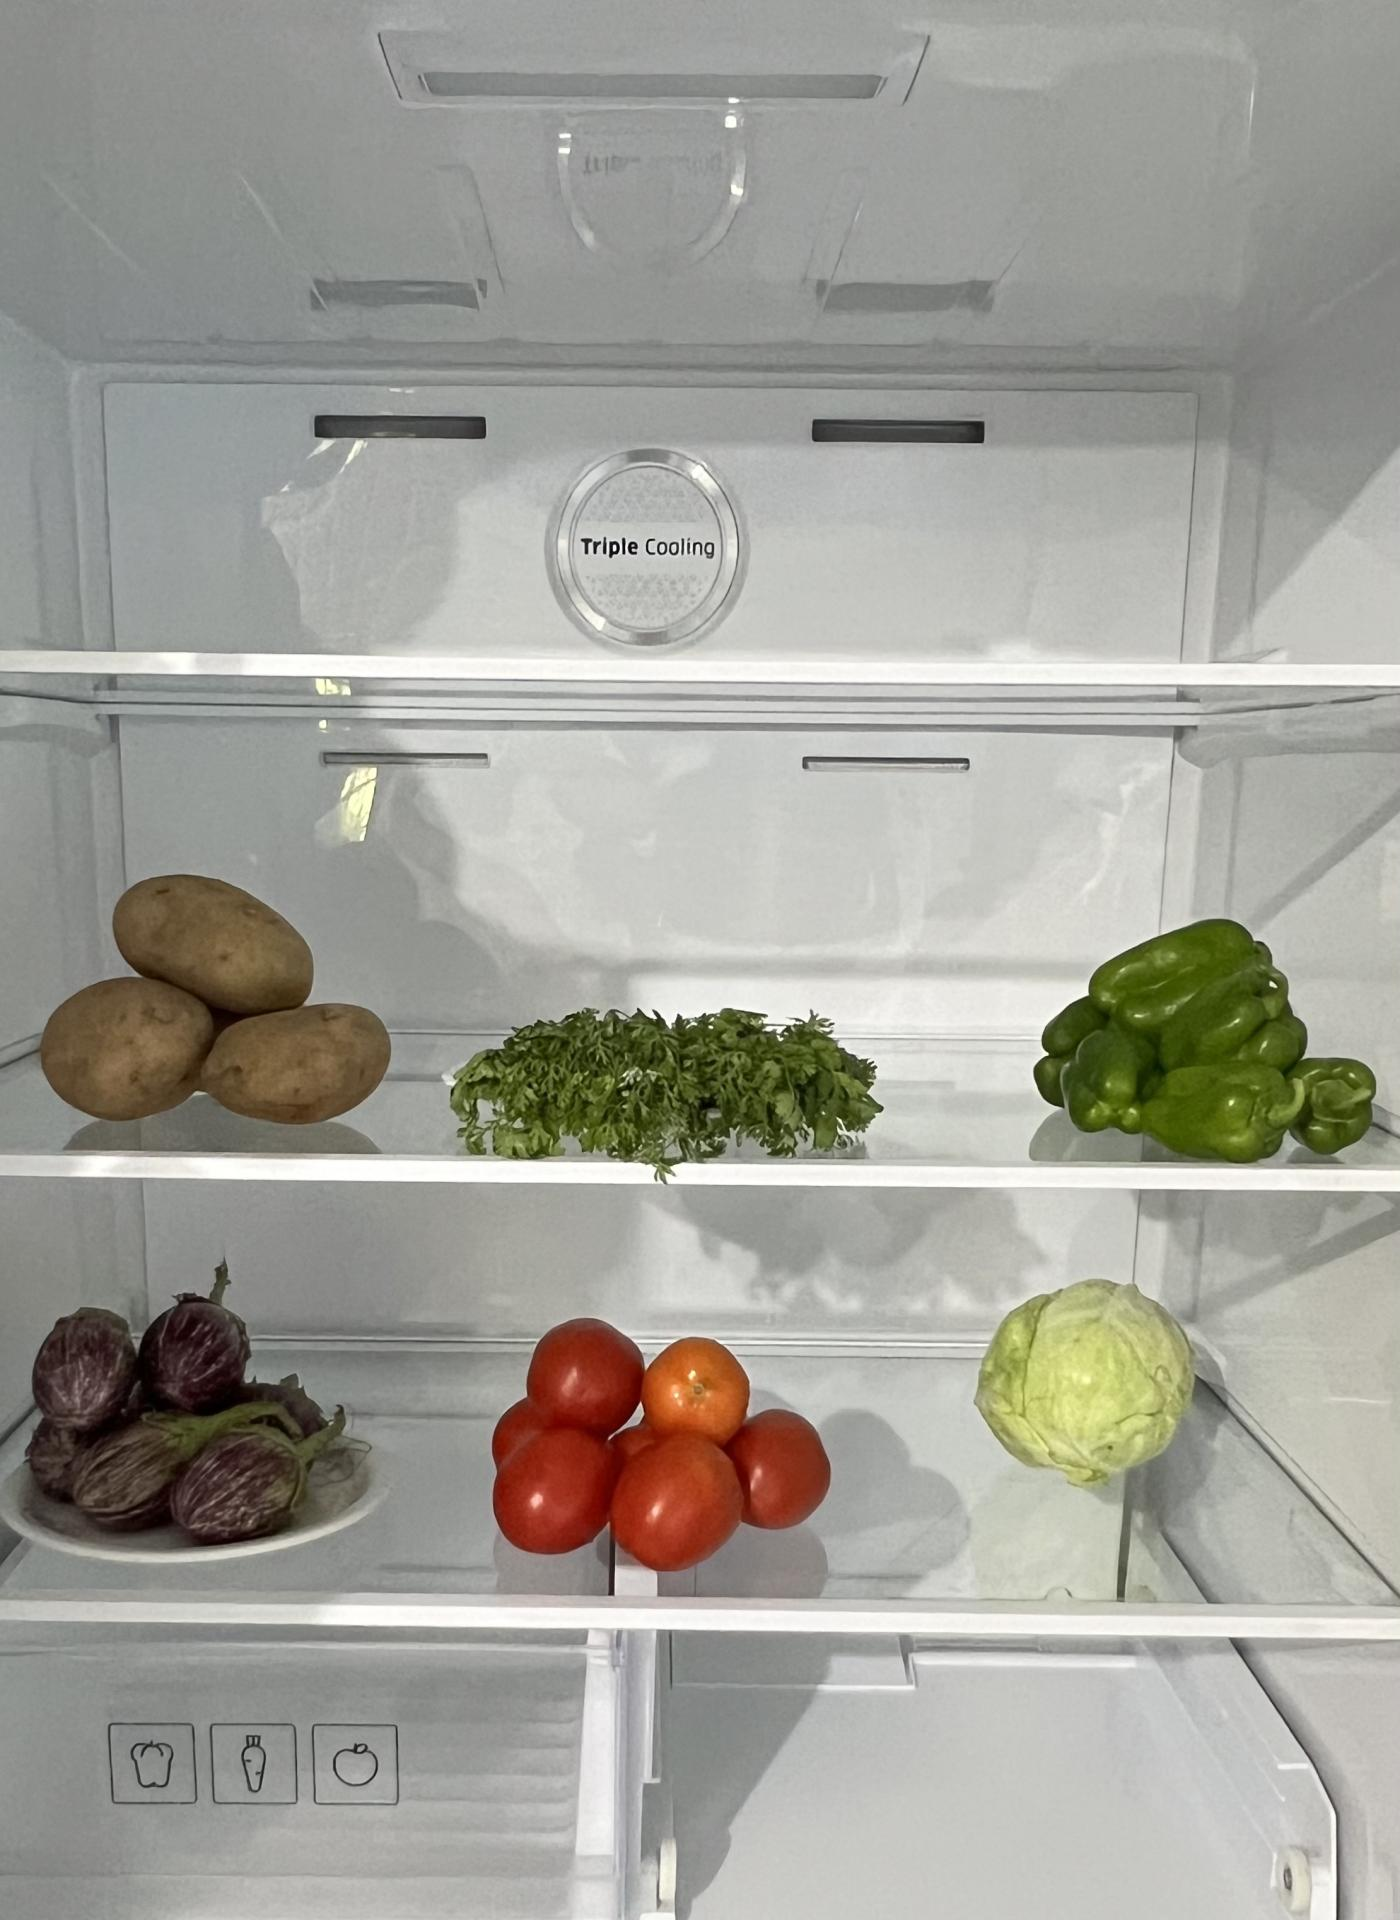cabbage: (980, 1279, 1200, 1474)
coriander: (456, 1003, 877, 1170)
potato: (42, 875, 388, 1122)
tomato: (485, 1315, 829, 1571)
